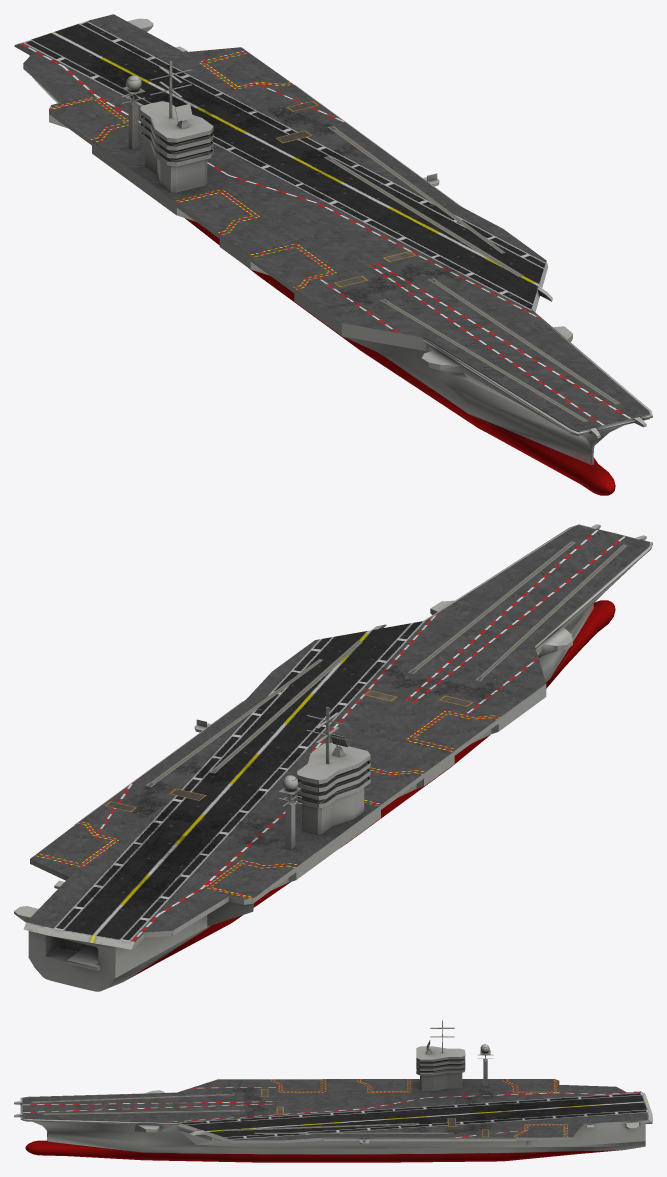
The picture shows the model from 3 angles, top to bottom: view 1: azimuth 30°, elevation 25°; view 2: azimuth 150°, elevation 25°; view 3: azimuth 270°, elevation 25°; orthographic projection. The views are drawn at different scales.
Parts seen in each view (by area): view 1: Nimitz, Tower, elevator1, elevator2, elevator3, elevator4, Nimitz.001; view 2: Nimitz, Tower, elevator1, elevator3, elevator4, elevator2, Nimitz.001; view 3: Nimitz, Tower, elevator4, elevator1, elevator3, elevator2, Nimitz.001.
Part boxes in pixels (x1,y1,x2,y2): Nimitz: (14,14,649,495); Tower: (121,61,213,192); elevator1: (250,245,333,292); elevator2: (176,191,255,238); elevator3: (49,98,128,145); elevator4: (202,52,290,87); Nimitz.001: (422,310,652,435); Nimitz: (14,524,649,991); Tower: (278,707,370,850); elevator1: (409,712,498,755); elevator3: (208,862,296,902); elevator4: (36,822,115,865); elevator2: (364,768,423,809); Nimitz.001: (424,524,652,648); Nimitz: (14,1079,652,1162); Tower: (416,1020,493,1090); elevator4: (516,1124,565,1140); elevator1: (273,1079,323,1091); elevator3: (506,1079,555,1091); elevator2: (359,1079,408,1091); Nimitz.001: (20,1092,179,1124).
Bounding box in the file's own units: 1251 × 1051 × 5410.
2 materials, 2 textured.
